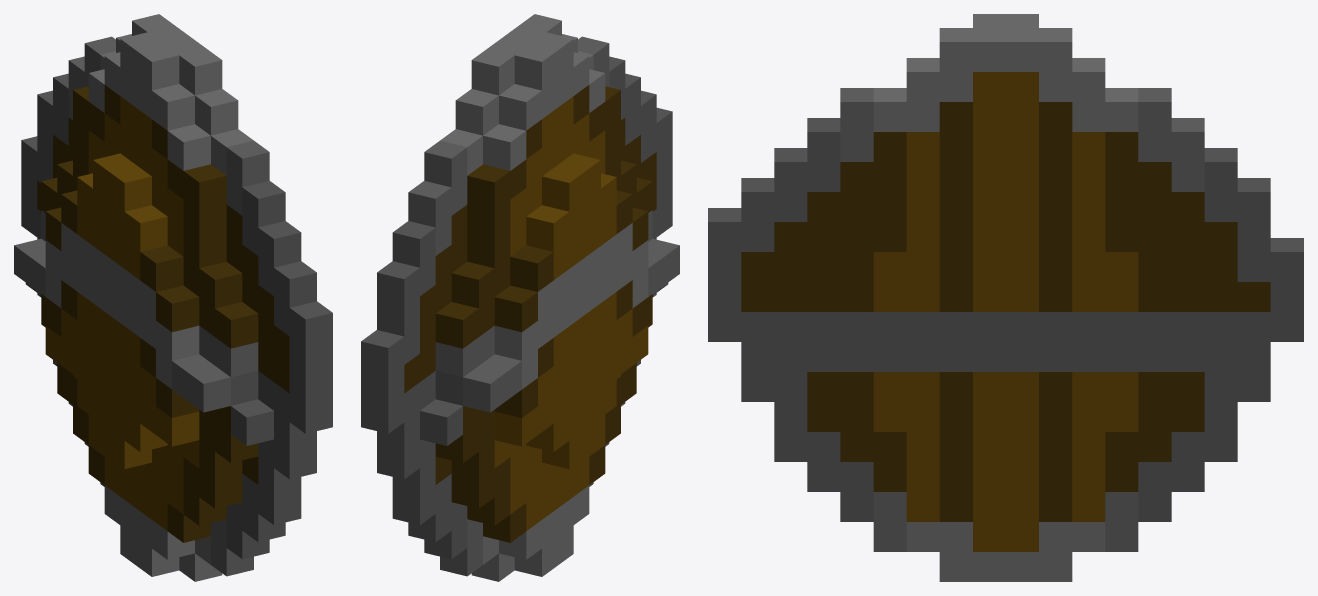
Rendered from Escutcheon.fbx.
3 views of the same model, side by side, from view 1: azimuth 30°, elevation 25°; view 2: azimuth 150°, elevation 25°; view 3: azimuth 270°, elevation 25° (orthographic). The views are drawn at different scales.
Parts seen in each view (by area): view 1: Matrix.001; view 2: Matrix.001; view 3: Matrix.001.
Part boxes in pixels (<box>): Matrix.001: <box>14,14,332,581</box>; Matrix.001: <box>361,14,679,581</box>; Matrix.001: <box>708,14,1303,581</box>.
Size of the model in its own units: 3 by 18 by 18.
